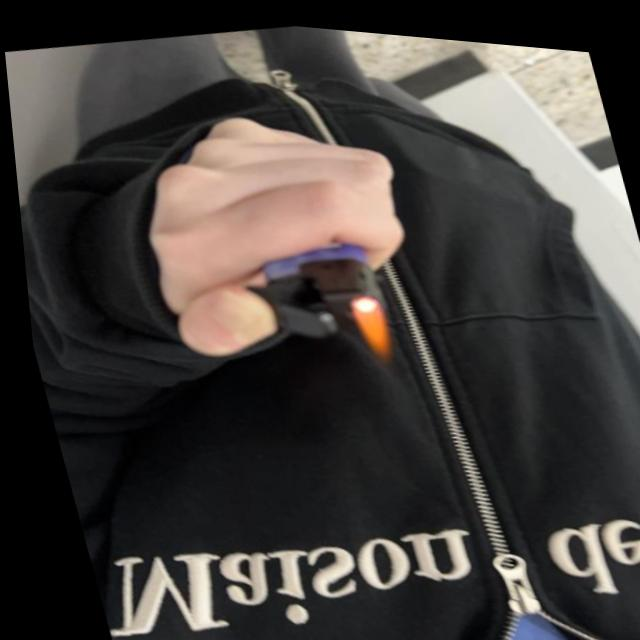Fire: (347, 294, 393, 360)
